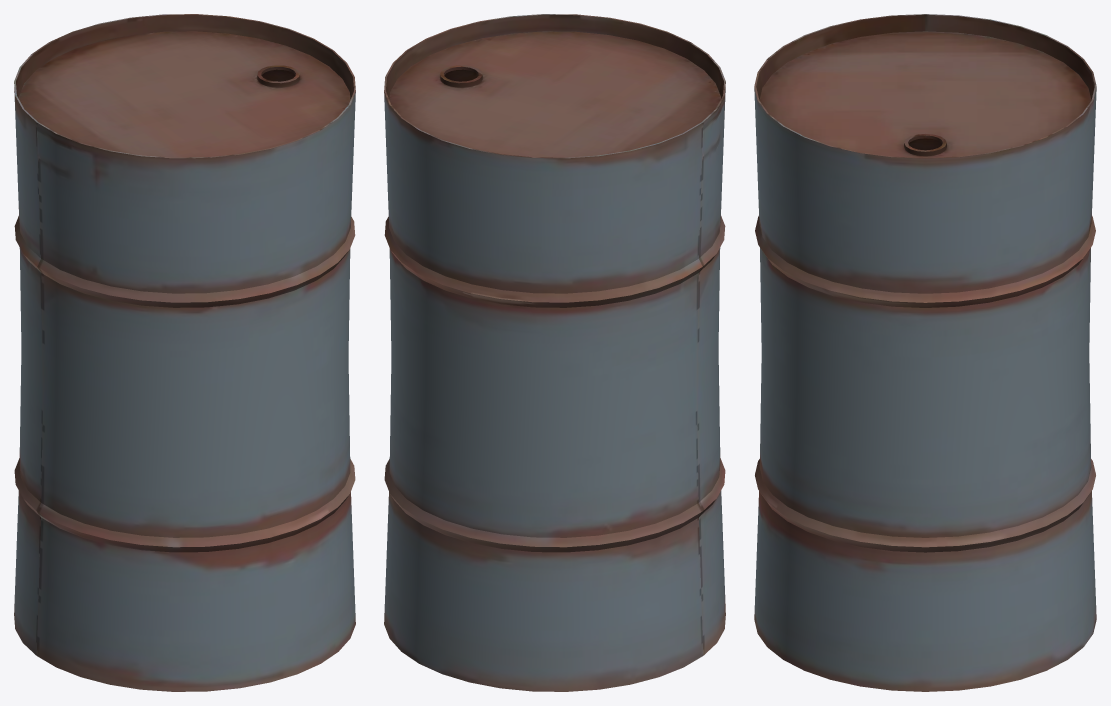
3 views of the same model, side by side, from view 1: azimuth 30°, elevation 25°; view 2: azimuth 150°, elevation 25°; view 3: azimuth 270°, elevation 25° (orthographic).
Visible parts, largest first — view 1: body0_model0_lod0_mesh0; view 2: body0_model0_lod0_mesh0; view 3: body0_model0_lod0_mesh0.
Part boxes in pixels (bbox=[...]): body0_model0_lod0_mesh0: bbox=[14, 14, 355, 691]; body0_model0_lod0_mesh0: bbox=[384, 14, 725, 691]; body0_model0_lod0_mesh0: bbox=[754, 14, 1096, 691].
Bounding box in the file's own units: 32 × 55 × 32.
1 material, 1 textured.
